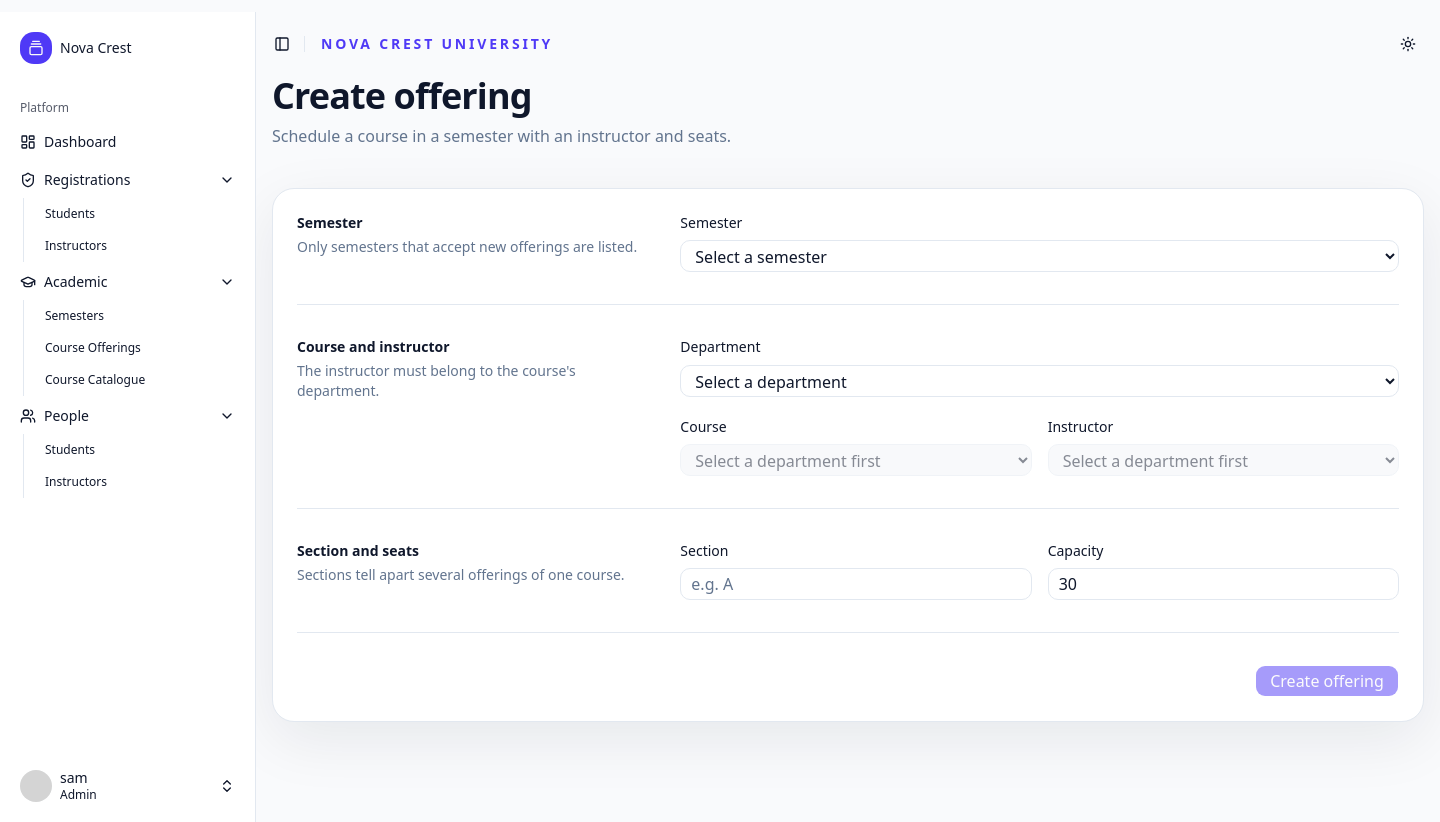
Test case: CreateOfferingForm › creates the offering and opens its semester
The width and height of the screenshot is (1440, 822).
Select "Winter 2026" in the dropdown labelled "Semester" at (1040, 256), box left=680, top=240, right=1399, bottom=272
Select "Computer Science" in the dropdown labelled "Department" at (1040, 380), box left=680, top=364, right=1399, bottom=396
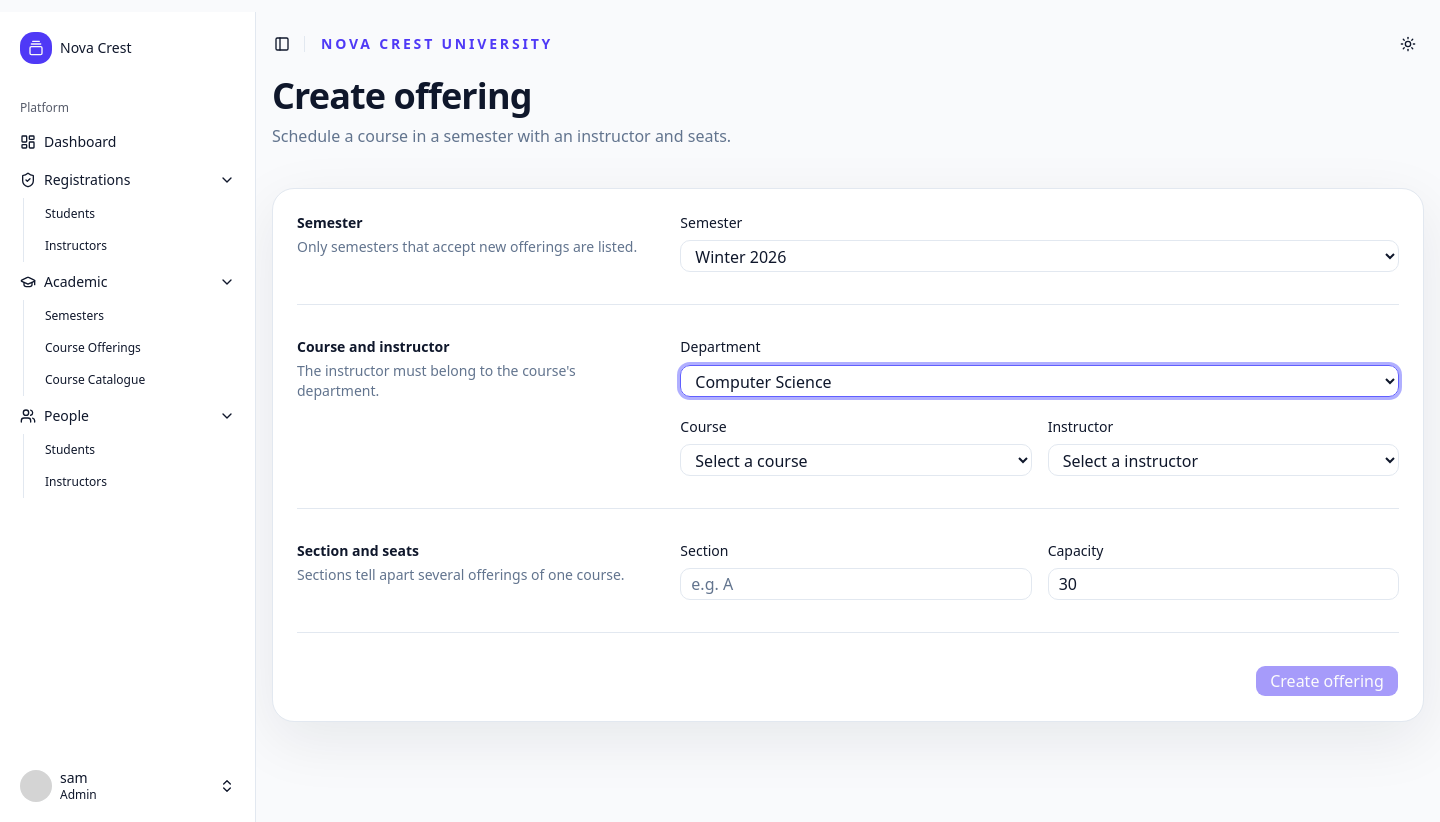
Expected: the dropdown labelled "Course" is enabled
Select "CS101 · Algorithms" in the dropdown labelled "Course" at (856, 460), box left=680, top=444, right=1032, bottom=476
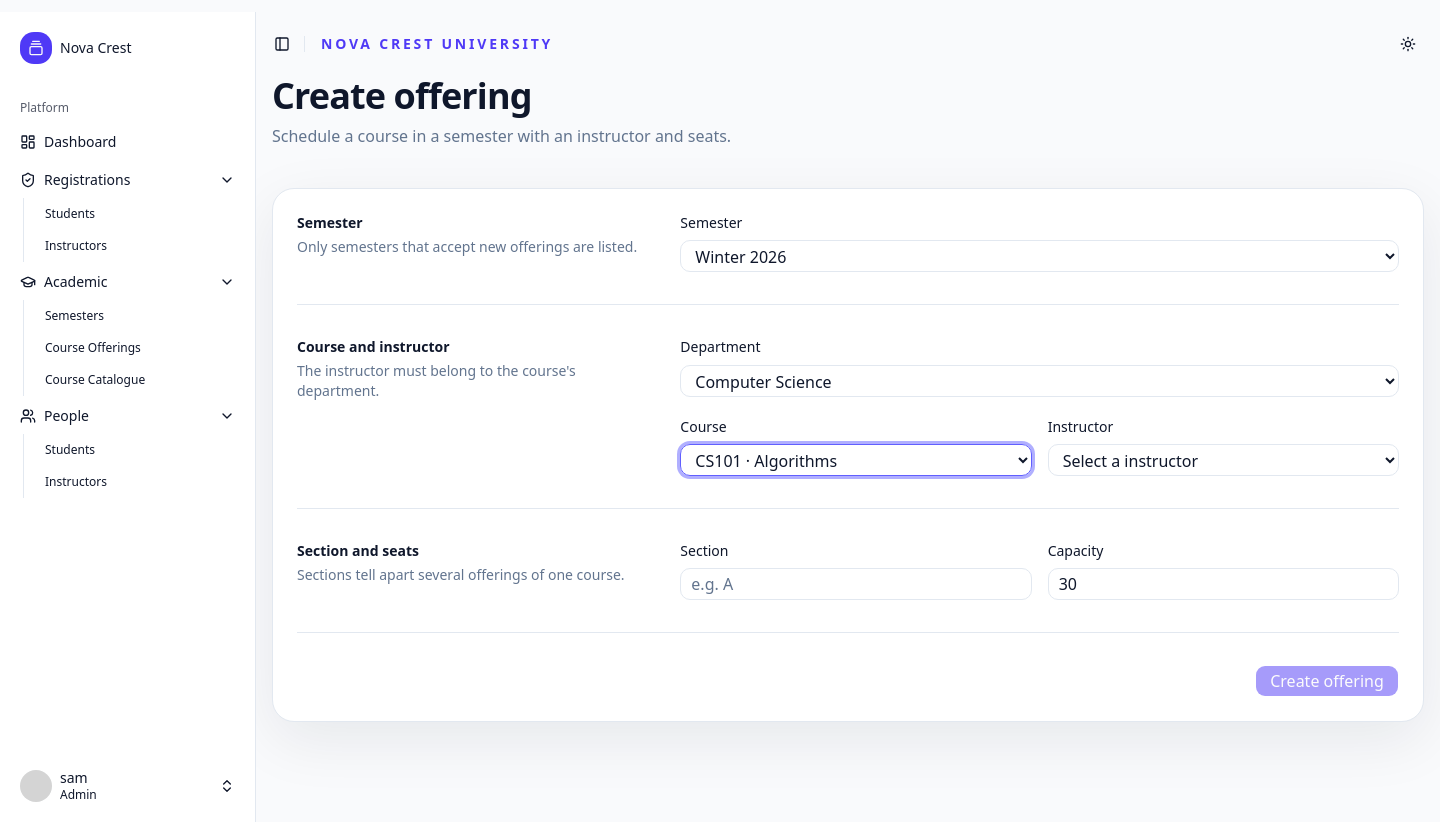
Expected: the dropdown labelled "Instructor" is enabled
Select "Kavya Sen" in the dropdown labelled "Instructor" at (1223, 460), box left=1048, top=444, right=1399, bottom=476
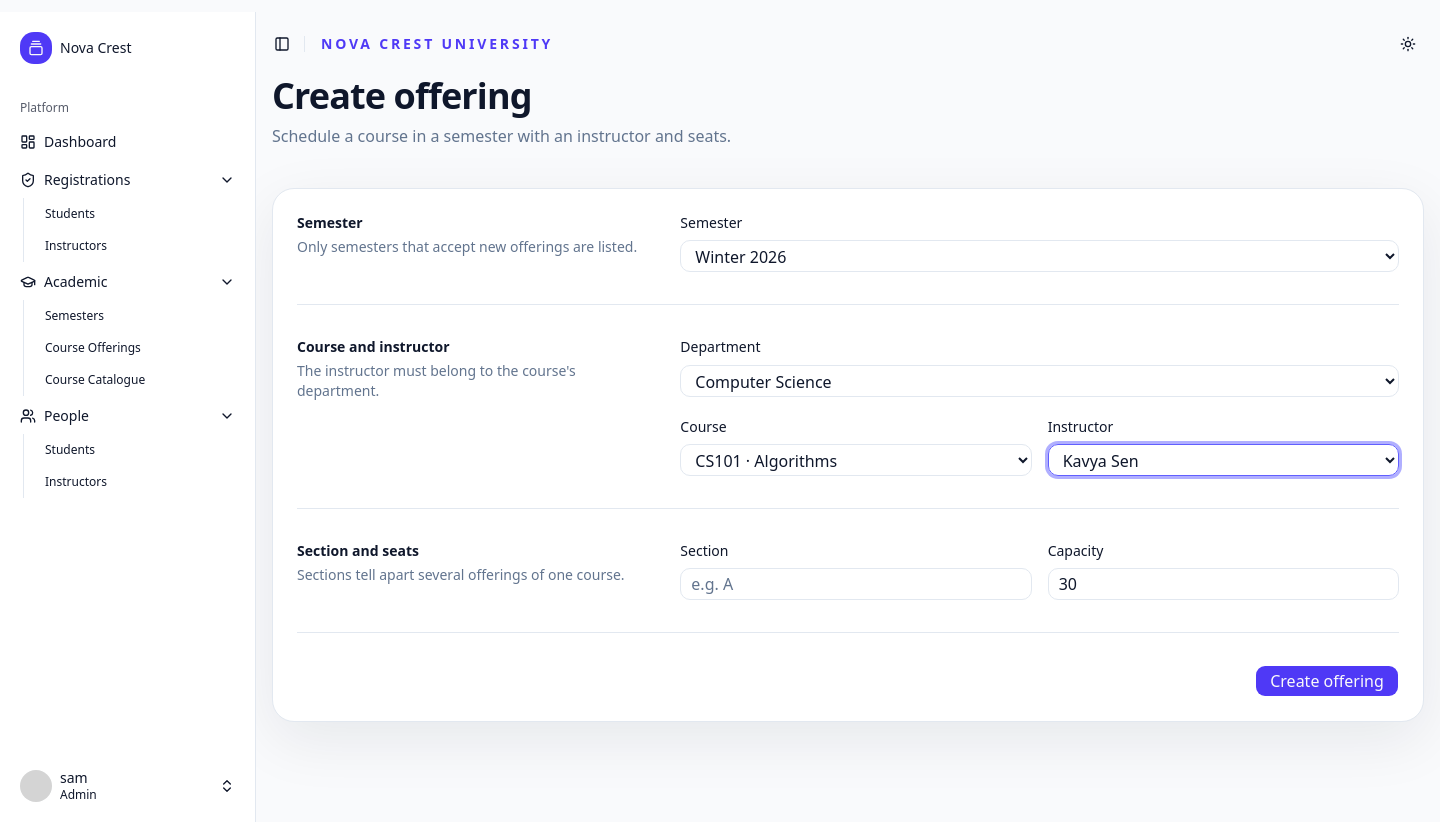
Type " b " into the field labelled "Section" at (856, 584), box left=680, top=568, right=1032, bottom=600
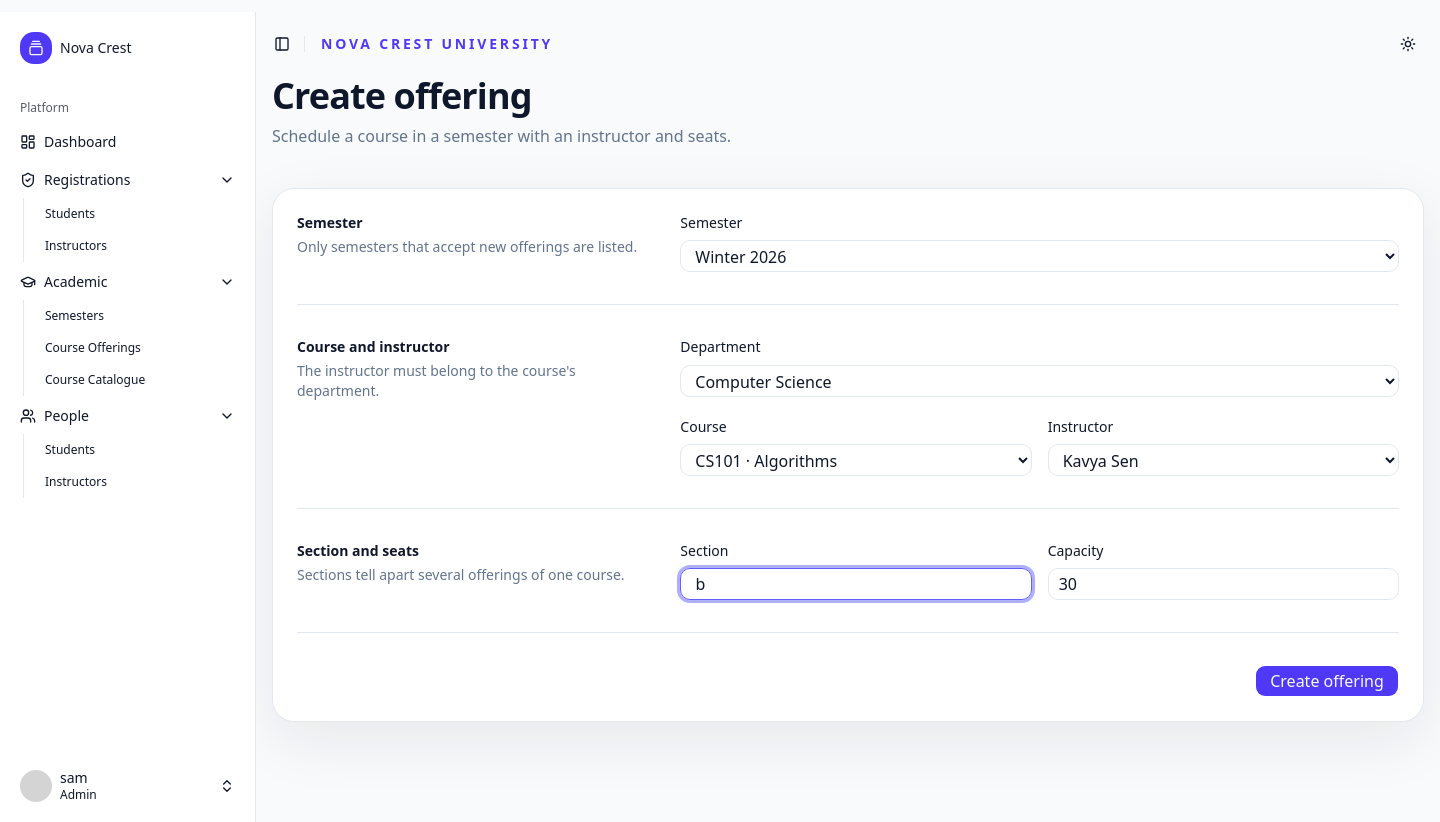
Replace the text in the number field labelled "Capacity" with "25" at (1223, 584), box left=1048, top=568, right=1399, bottom=600
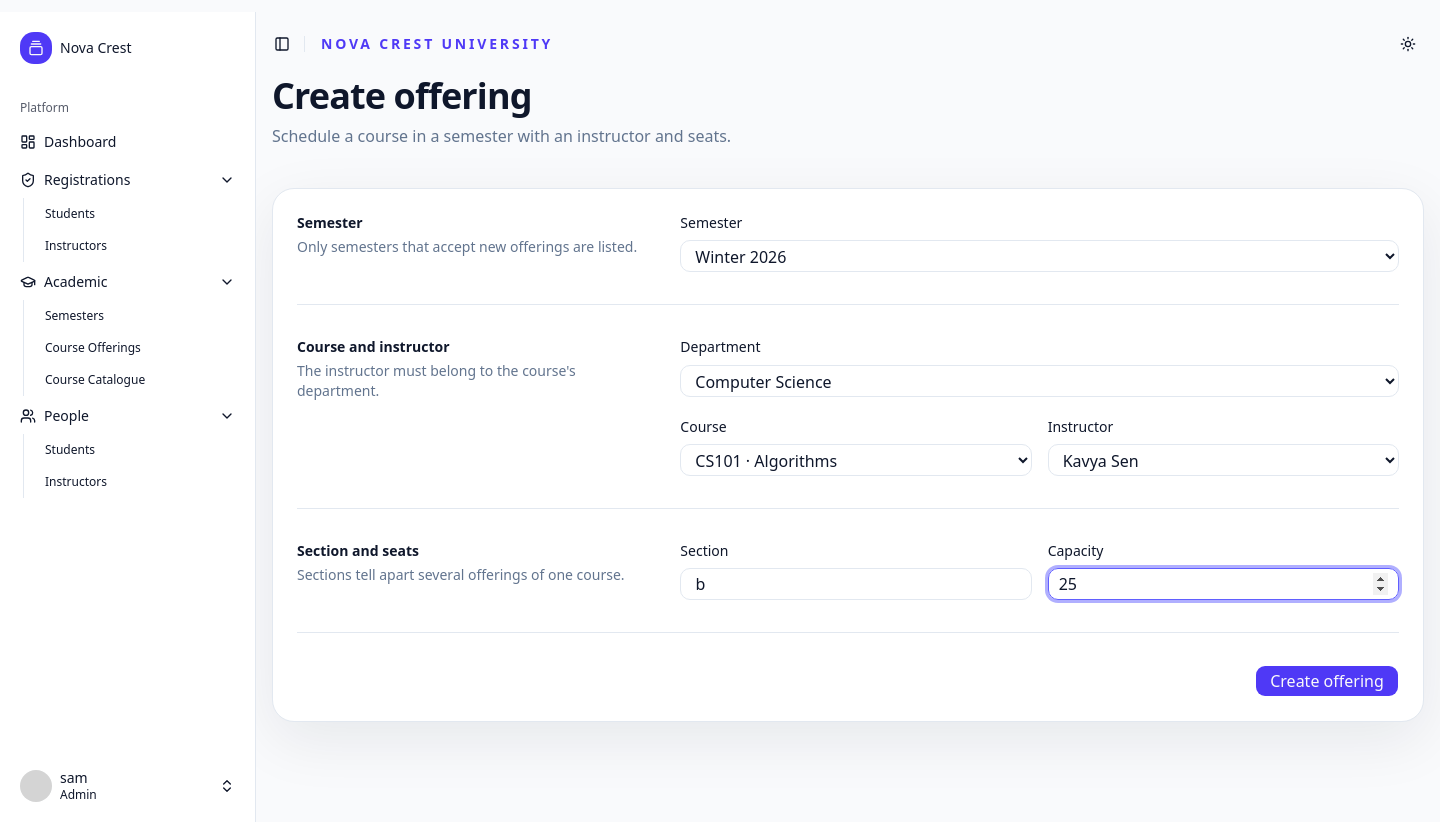
Click the button "Create offering" at (1327, 681), box left=1255, top=665, right=1399, bottom=697
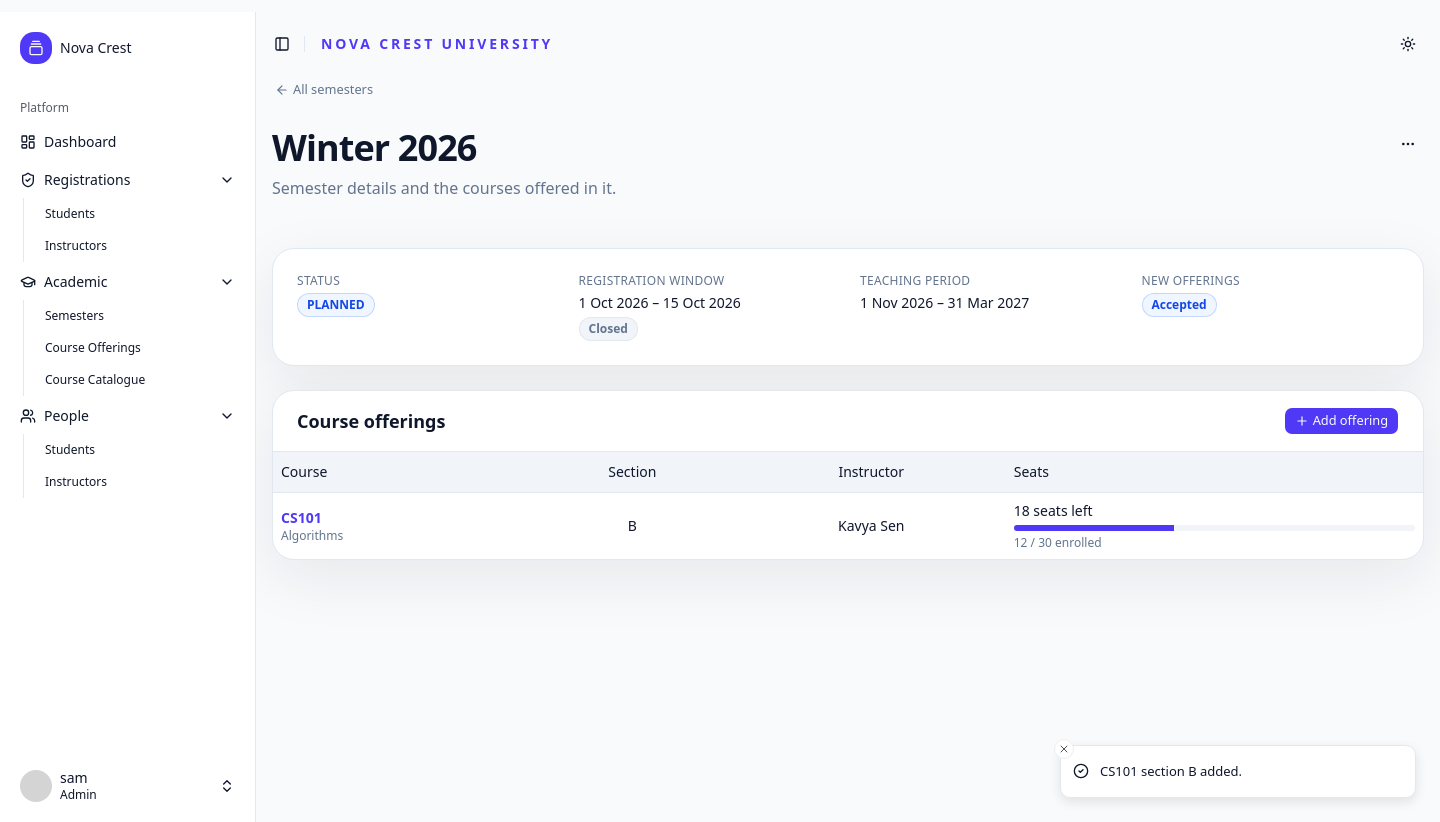
Expected: the text "CS101 section B added." is shown, left=1100, top=762, right=1242, bottom=781
